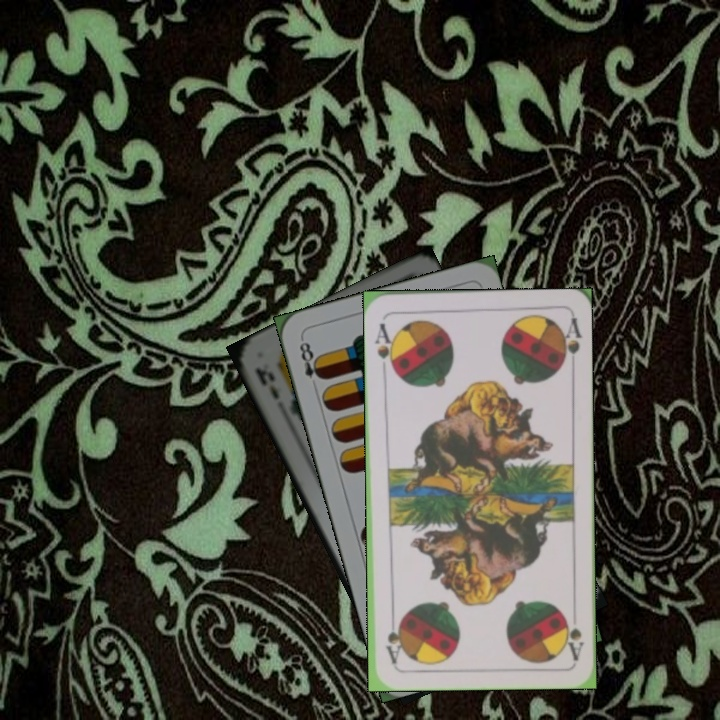E8: (295, 335, 326, 382)
EK: (251, 363, 282, 402)
SA: (371, 319, 398, 375), (560, 609, 586, 662)
